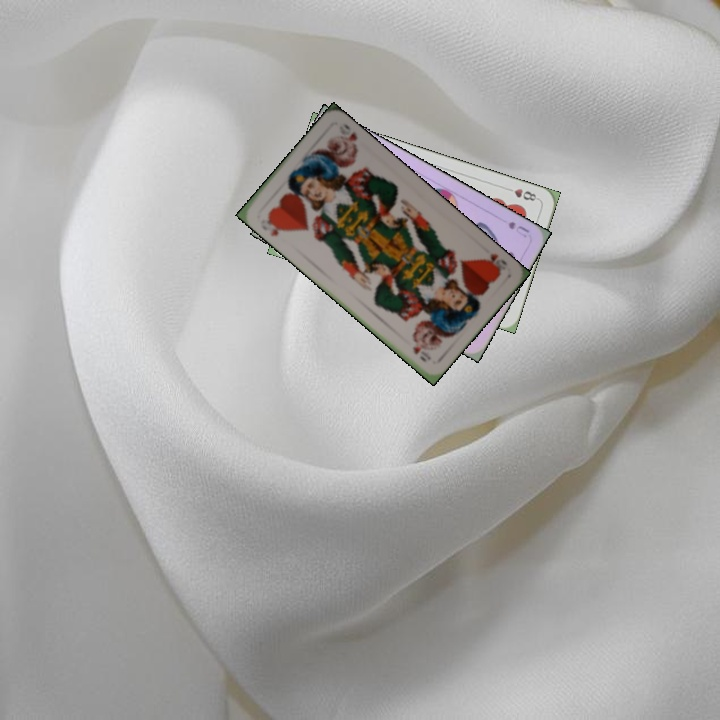H8: (502, 184, 541, 204)
HO: (479, 249, 510, 277), (263, 210, 291, 239)
SU: (504, 217, 532, 240)
